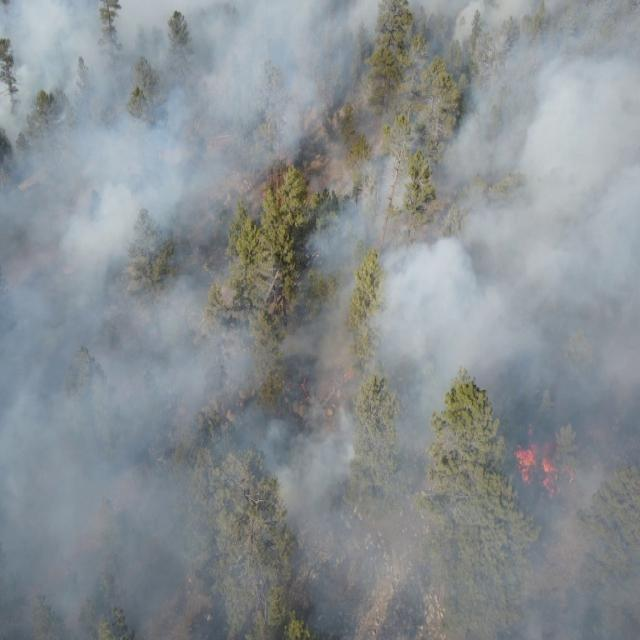fire: (508, 418, 578, 498), (295, 367, 310, 402)
smoke: (0, 0, 640, 640)
